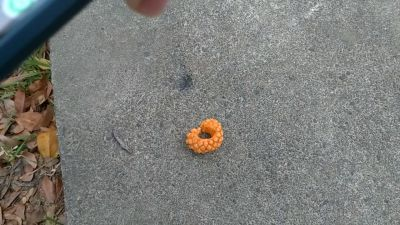eggs: (182, 116, 226, 156)
